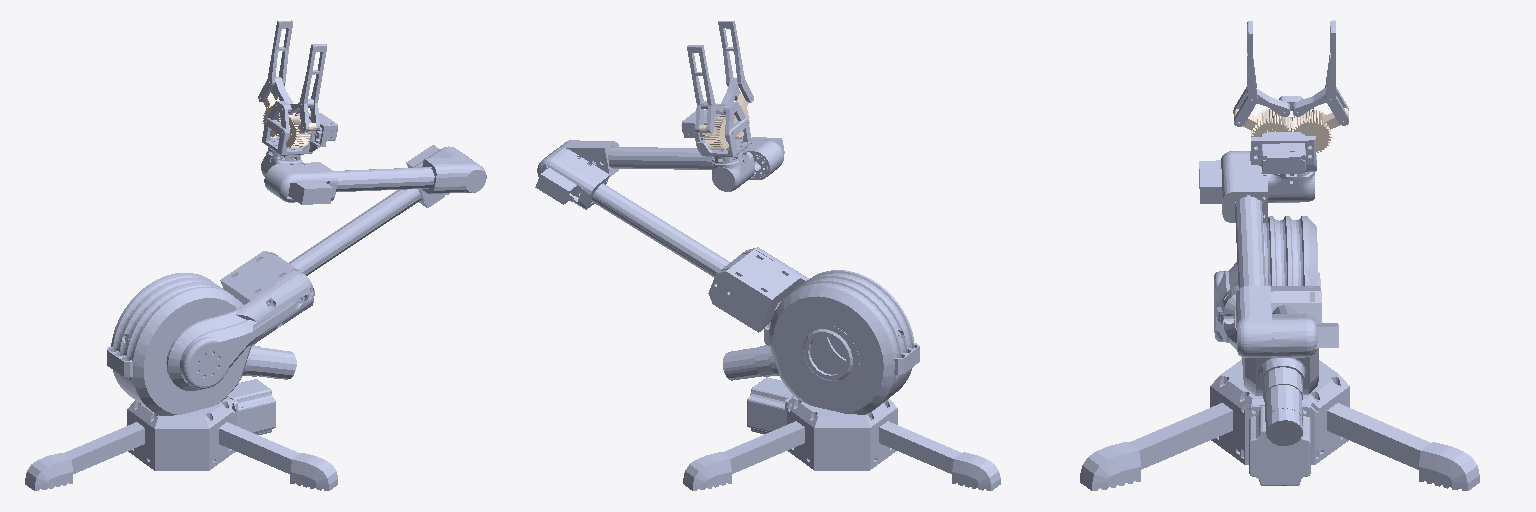
robot.urdf — brazo4:
<?xml version="1.0" encoding="utf-8"?>
<!-- This URDF was automatically created by SolidWorks to URDF Exporter! Originally created by Stephen Brawner (brawner@gmail.com) 
     Commit Version: 1.6.0-4-g7f85cfe  Build Version: 1.6.7995.38578
     For more information, please see http://wiki.ros.org/sw_urdf_exporter -->
<robot
  name="brazo4">
  <link
    name="base_link">
    <inertial>
      <origin
        xyz="0.0620154234110682 0.0287828530200332 0.0194399840557853"
        rpy="0 0 0" />
      <mass
        value="0.814654269422782" />
      <inertia
        ixx="0.00321225759807019"
        ixy="-5.94963872437992E-05"
        ixz="-4.09310030216226E-06"
        iyy="0.00681091711547534"
        iyz="1.70805052077515E-07"
        izz="0.00410985447956931" />
    </inertial>
    <visual>
      <origin
        xyz="0 0 0"
        rpy="0 0 0" />
      <geometry>
        <mesh
          filename="package://brazo4/meshes/base_link.STL" />
      </geometry>
      <material
        name="">
        <color
          rgba="0.792156862745098 0.819607843137255 0.933333333333333 1" />
      </material>
    </visual>
    <collision>
      <origin
        xyz="0 0 0"
        rpy="0 0 0" />
      <geometry>
        <mesh
          filename="package://brazo4/meshes/base_link.STL" />
      </geometry>
    </collision>
  </link>
  <link
    name="1">
    <inertial>
      <origin
        xyz="0.0194962567255034 0.0112262534519014 0.078113516182697"
        rpy="0 0 0" />
      <mass
        value="0.355121581213206" />
      <inertia
        ixx="0.00125603542570872"
        ixy="-0.000555249047729999"
        ixz="0.000259680747218291"
        iyy="0.00189659685842054"
        iyz="0.00015044977523268"
        izz="0.00165493757001617" />
    </inertial>
    <visual>
      <origin
        xyz="0 0 0"
        rpy="0 0 0" />
      <geometry>
        <mesh
          filename="package://brazo4/meshes/1.STL" />
      </geometry>
      <material
        name="">
        <color
          rgba="0.792156862745098 0.819607843137255 0.933333333333333 1" />
      </material>
    </visual>
    <collision>
      <origin
        xyz="0 0 0"
        rpy="0 0 0" />
      <geometry>
        <mesh
          filename="package://brazo4/meshes/1.STL" />
      </geometry>
    </collision>
  </link>
  <joint
    name="1"
    type="continuous">
    <origin
      xyz="0.0454347510074524 -0.0194924164116458 0.0427918681373972"
      rpy="0 0 -0.49557" />
    <parent
      link="base_link" />
    <child
      link="1" />
    <axis
      xyz="0 0 1" />
  </joint>
  <link
    name="2">
    <inertial>
      <origin
        xyz="0.0321790284208932 0.0387517372140779 0.129799464054696"
        rpy="0 0 0" />
      <mass
        value="0.514099608790563" />
      <inertia
        ixx="0.00180786464083964"
        ixy="7.74792552574944E-05"
        ixz="-0.000644830625298174"
        iyy="0.00201839346894238"
        iyz="3.95355749513025E-05"
        izz="0.000642833598924862" />
    </inertial>
    <visual>
      <origin
        xyz="0 0 0"
        rpy="0 0 0" />
      <geometry>
        <mesh
          filename="package://brazo4/meshes/2.STL" />
      </geometry>
      <material
        name="">
        <color
          rgba="0.792156862745098 0.819607843137255 0.933333333333333 1" />
      </material>
    </visual>
    <collision>
      <origin
        xyz="0 0 0"
        rpy="0 0 0" />
      <geometry>
        <mesh
          filename="package://brazo4/meshes/2.STL" />
      </geometry>
    </collision>
  </link>
  <joint
    name="2"
    type="continuous">
    <origin
      xyz="0 0 0.0930581318626029"
      rpy="1.5421939 -1.0470204 2.1191647" />
    <parent
      link="1" />
    <child
      link="2" />
    <axis
      xyz="0.500000000000001 -0.866025403784438 0" />
  </joint>
  <link
    name="3">
    <inertial>
      <origin
        xyz="0.160285451537985 0.0390539194758058 -0.0327831842575367"
        rpy="0 0 0" />
      <mass
        value="0.148274265947056" />
      <inertia
        ixx="5.33432313935929E-05"
        ixy="-3.05053739174086E-06"
        ixz="3.81633178561702E-05"
        iyy="0.00022552110386809"
        iyz="5.28312759383035E-07"
        izz="0.000231079216630846" />
    </inertial>
    <visual>
      <origin
        xyz="0 0 0"
        rpy="0 0 0" />
      <geometry>
        <mesh
          filename="package://brazo4/meshes/3.STL" />
      </geometry>
      <material
        name="">
        <color
          rgba="0.792156862745098 0.819607843137255 0.933333333333333 1" />
      </material>
    </visual>
    <collision>
      <origin
        xyz="0 0 0"
        rpy="0 0 0" />
      <geometry>
        <mesh
          filename="package://brazo4/meshes/3.STL" />
      </geometry>
    </collision>
  </link>
  <joint
    name="3"
    type="continuous">
    <origin
      xyz="0.118562532535808 0.0684521100753529 0.37687220459222"
      rpy="0 1.150442 0.523599" />
    <parent
      link="2" />
    <child
      link="3" />
    <axis
      xyz="0 -1 0" />
  </joint>
  <link
    name="4">
    <inertial>
      <origin
        xyz="-0.00934416150525474 -0.000677982540279336 -0.0368117366199101"
        rpy="0 0 0" />
      <mass
        value="0.0891556215531032" />
      <inertia
        ixx="2.88078312181138E-05"
        ixy="-1.19720534200001E-06"
        ixz="1.29339806412181E-06"
        iyy="2.97059325514424E-05"
        iyz="4.77175311125223E-07"
        izz="3.32395106205033E-05" />
    </inertial>
    <visual>
      <origin
        xyz="0 0 0"
        rpy="0 0 0" />
      <geometry>
        <mesh
          filename="package://brazo4/meshes/4.STL" />
      </geometry>
      <material
        name="">
        <color
          rgba="0.792156862745098 0.819607843137255 0.933333333333333 1" />
      </material>
    </visual>
    <collision>
      <origin
        xyz="0 0 0"
        rpy="0 0 0" />
      <geometry>
        <mesh
          filename="package://brazo4/meshes/4.STL" />
      </geometry>
    </collision>
  </link>
  <joint
    name="4"
    type="continuous">
    <origin
      xyz="0.23364964353366 0 -0.04785492740141"
      rpy="0 2.78230065 0" />
    <parent
      link="3" />
    <child
      link="4" />
    <axis
      xyz="0 1 0" />
  </joint>
  <link
    name="left_link">
    <inertial>
      <origin
        xyz="-0.000469947739044435 0.0174936888369082 0.00300000000000089"
        rpy="0 0 0" />
      <mass
        value="0.00336762222486258" />
      <inertia
        ixx="6.2747061339946E-07"
        ixy="1.55947433705602E-08"
        ixz="-8.41656273272706E-23"
        iyy="4.73790672083762E-08"
        iyz="1.31305874954843E-21"
        izz="6.18722643526794E-07" />
    </inertial>
    <visual>
      <origin
        xyz="0 0 0"
        rpy="0 0 0" />
      <geometry>
        <mesh
          filename="package://brazo4/meshes/left_link.STL" />
      </geometry>
      <material
        name="">
        <color
          rgba="0.792156862745098 0.819607843137255 0.933333333333333 1" />
      </material>
    </visual>
    <collision>
      <origin
        xyz="0 0 0"
        rpy="0 0 0" />
      <geometry>
        <mesh
          filename="package://brazo4/meshes/left_link.STL" />
      </geometry>
    </collision>
  </link>
  <joint
    name="left_joint"
    type="continuous">
    <origin
      xyz="-0.0446374847636057 0 -0.0675895135948699"
      rpy="-0.636182262047826 -0.816033703582543 0.792345504410718" />
    <parent
      link="4" />
    <child
      link="left_link" />
    <axis
      xyz="0 0 1" />
  </joint>
  <link
    name="right_link">
    <inertial>
      <origin
        xyz="0 -0.0175 -0.00300000000000045"
        rpy="0 0 0" />
      <mass
        value="0.00336762222486258" />
      <inertia
        ixx="6.27889548162521E-07"
        ixy="-2.87858853168454E-22"
        ixz="1.94387443949962E-23"
        iyy="4.6960132445314E-08"
        iyz="3.36838931424103E-21"
        izz="6.18722643526793E-07" />
    </inertial>
    <visual>
      <origin
        xyz="0 0 0"
        rpy="0 0 0" />
      <geometry>
        <mesh
          filename="package://brazo4/meshes/right_link.STL" />
      </geometry>
      <material
        name="">
        <color
          rgba="0.792156862745098 0.819607843137255 0.933333333333333 1" />
      </material>
    </visual>
    <collision>
      <origin
        xyz="0 0 0"
        rpy="0 0 0" />
      <geometry>
        <mesh
          filename="package://brazo4/meshes/right_link.STL" />
      </geometry>
    </collision>
  </link>
  <joint
    name="right_joint"
    type="continuous">
    <origin
      xyz="-0.0446374847636117 -0.01199999999993 -0.0675895135948783"
      rpy="2.48504023556058 0.801364458791681 2.32108947717299" />
    <parent
      link="4" />
    <child
      link="right_link" />
    <axis
      xyz="0 0 1" />
  </joint>
  <link
    name="left_gear">
    <inertial>
      <origin
        xyz="0.00332043434216367 5.55111512312578E-17 -0.00283964882726565"
        rpy="0 0 0" />
      <mass
        value="0.0208170455983243" />
      <inertia
        ixx="4.74146880578325E-06"
        ixy="-7.1848908006356E-21"
        ixz="-1.89418670297648E-08"
        iyy="3.75851791717855E-06"
        iyz="-2.32934060494933E-21"
        izz="2.19540725542139E-06" />
    </inertial>
    <visual>
      <origin
        xyz="0 0 0"
        rpy="0 0 0" />
      <geometry>
        <mesh
          filename="package://brazo4/meshes/left_gear.STL" />
      </geometry>
      <material
        name="">
        <color
          rgba="1 0.949019607843137 0.909803921568627 1" />
      </material>
    </visual>
    <collision>
      <origin
        xyz="0 0 0"
        rpy="0 0 0" />
      <geometry>
        <mesh
          filename="package://brazo4/meshes/left_gear.STL" />
      </geometry>
    </collision>
  </link>
  <joint
    name="left_gear"
    type="continuous">
    <origin
      xyz="-0.030860842200278 0.0120000000000486 -0.0467290960611094"
      rpy="-1.03436663934795 -0.583665698554612 3.14159265358977" />
    <parent
      link="4" />
    <child
      link="left_gear" />
    <axis
      xyz="1 0 0" />
  </joint>
  <link
    name="left_finger">
    <inertial>
      <origin
        xyz="0.00767435115108214 0.0771367226814144 0.0150000017340822"
        rpy="0 0 0" />
      <mass
        value="0.00826543782946823" />
      <inertia
        ixx="8.37291786945403E-06"
        ixy="-5.42084443454308E-07"
        ixz="-5.04273014281664E-15"
        iyy="6.05144732599242E-07"
        iyz="-2.60044833018136E-13"
        izz="8.06912919160269E-06" />
    </inertial>
    <visual>
      <origin
        xyz="0 0 0"
        rpy="0 0 0" />
      <geometry>
        <mesh
          filename="package://brazo4/meshes/left_finger.STL" />
      </geometry>
      <material
        name="">
        <color
          rgba="0.792156862745098 0.819607843137255 0.933333333333333 1" />
      </material>
    </visual>
    <collision>
      <origin
        xyz="0 0 0"
        rpy="0 0 0" />
      <geometry>
        <mesh
          filename="package://brazo4/meshes/left_finger.STL" />
      </geometry>
    </collision>
  </link>
  <joint
    name="left_finger_joint"
    type="fixed">
    <origin
      xyz="0.0180000000000023 -0.0295926571259712 -0.0163111090691601"
      rpy="-1.57079632679489 -1.03436663934697 1.57079632679489" />
    <parent
      link="left_gear" />
    <child
      link="left_finger" />
    <axis
      xyz="0 0 0" />
  </joint>
  <link
    name="right_gear">
    <inertial>
      <origin
        xyz="-0.00299999999999589 0.000235018102434981 -0.00268626920292762"
        rpy="0 0 0" />
      <mass
        value="0.0220238578526574" />
      <inertia
        ixx="4.81786570325033E-06"
        ixy="1.42440501481631E-21"
        ixz="3.75746793252213E-22"
        iyy="3.86576031906348E-06"
        iyz="1.3674437762972E-07"
        izz="2.31472851349093E-06" />
    </inertial>
    <visual>
      <origin
        xyz="0 0 0"
        rpy="0 0 0" />
      <geometry>
        <mesh
          filename="package://brazo4/meshes/right_gear.STL" />
      </geometry>
      <material
        name="">
        <color
          rgba="1 0.949019607843137 0.909803921568627 1" />
      </material>
    </visual>
    <collision>
      <origin
        xyz="0 0 0"
        rpy="0 0 0" />
      <geometry>
        <mesh
          filename="package://brazo4/meshes/right_gear.STL" />
      </geometry>
    </collision>
  </link>
  <joint
    name="right_gear_joint"
    type="continuous">
    <origin
      xyz="-0.0308608422002956 -0.0239999999999514 -0.0467290960611348"
      rpy="-1.1241367549404 0.583665698554614 0" />
    <parent
      link="4" />
    <child
      link="right_gear" />
    <axis
      xyz="1 0 0" />
  </joint>
  <link
    name="right_finger">
    <inertial>
      <origin
        xyz="0.00861288758144949 0.0421496228519228 1.90673787869855E-09"
        rpy="0 0 0" />
      <mass
        value="0.00826543786698466" />
      <inertia
        ixx="8.37295282843617E-06"
        ixy="-5.41833954768233E-07"
        ixz="7.35144046165134E-14"
        iyy="6.05109773246728E-07"
        iyz="-6.04862742966393E-14"
        izz="8.06912919102798E-06" />
    </inertial>
    <visual>
      <origin
        xyz="0 0 0"
        rpy="0 0 0" />
      <geometry>
        <mesh
          filename="package://brazo4/meshes/right_finger.STL" />
      </geometry>
      <material
        name="">
        <color
          rgba="0.792156862745098 0.819607843137255 0.933333333333333 1" />
      </material>
    </visual>
    <collision>
      <origin
        xyz="0 0 0"
        rpy="0 0 0" />
      <geometry>
        <mesh
          filename="package://brazo4/meshes/right_finger.STL" />
      </geometry>
    </collision>
  </link>
  <joint
    name="right_finger_joint"
    type="fixed">
    <origin
      xyz="-0.00300000000000089 0.00305045099616832 -0.0348668144332111"
      rpy="-1.57079580129379 -1.12416900857782 1.5707957933053" />
    <parent
      link="right_gear" />
    <child
      link="right_finger" />
    <axis
      xyz="0 0 0" />
  </joint>
</robot>

--- Facts derived from the render (not from the file) ---
Views: 3 orthographic renders of the robot side by side, from view 1: azimuth 30°, elevation 25°; view 2: azimuth 150°, elevation 25°; view 3: azimuth 270°, elevation 25°.
Robot: brazo4 — 11 links, 10 joints (8 continuous, 2 fixed); root link base_link; default pose: all joints at 0.
Links seen in each view (by area): view 1: base_link, 2, 1, 3, 4, left_finger, right_finger, left_gear; view 2: 1, base_link, 2, 3, 4, right_finger, left_finger, right_gear; view 3: base_link, 1, 3, 2, 4, right_gear, left_finger, right_finger, left_gear.
Boxes of the visible links, x1=… form: base_link: x1=25, y1=379, x2=337, y2=490; 2: x1=167, y1=145, x2=471, y2=390; 1: x1=107, y1=273, x2=296, y2=415; 3: x1=264, y1=157, x2=486, y2=204; 4: x1=261, y1=101, x2=337, y2=176; left_finger: x1=299, y1=44, x2=326, y2=131; right_finger: x1=258, y1=20, x2=292, y2=101; left_gear: x1=279, y1=116, x2=316, y2=148; 1: x1=723, y1=270, x2=919, y2=414; base_link: x1=683, y1=377, x2=1000, y2=490; 2: x1=535, y1=148, x2=808, y2=332; 3: x1=557, y1=137, x2=784, y2=179; 4: x1=681, y1=102, x2=754, y2=191; right_finger: x1=687, y1=45, x2=715, y2=133; left_finger: x1=718, y1=21, x2=753, y2=102; right_gear: x1=699, y1=117, x2=728, y2=149; base_link: x1=1080, y1=359, x2=1479, y2=490; 1: x1=1242, y1=216, x2=1320, y2=445; 3: x1=1199, y1=151, x2=1272, y2=357; 2: x1=1214, y1=262, x2=1338, y2=356; 4: x1=1250, y1=96, x2=1316, y2=202; right_gear: x1=1291, y1=108, x2=1348, y2=152; left_finger: x1=1233, y1=21, x2=1257, y2=126; right_finger: x1=1325, y1=20, x2=1348, y2=125; left_gear: x1=1233, y1=109, x2=1290, y2=136.
Size in the robot's own frame: 0.5999 by 0.3678 by 0.4998 metres.
Meshes: 11 distinct files referenced, 11 mesh visuals loaded (11 binary STL).
